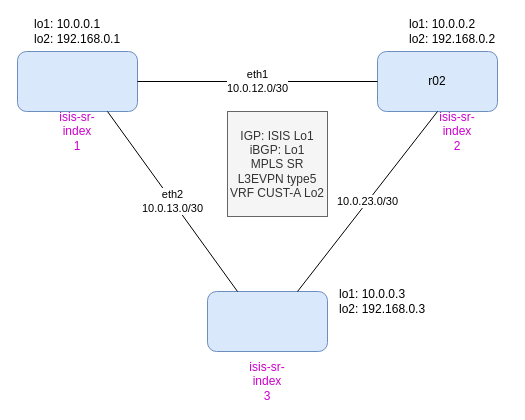
This 525x420 diagram has some shape labels left out. The centre of each missing label's shape, as x and y in pixels:
"r01" belongs at (x=77, y=81).
"r03" belongs at (x=267, y=321).
